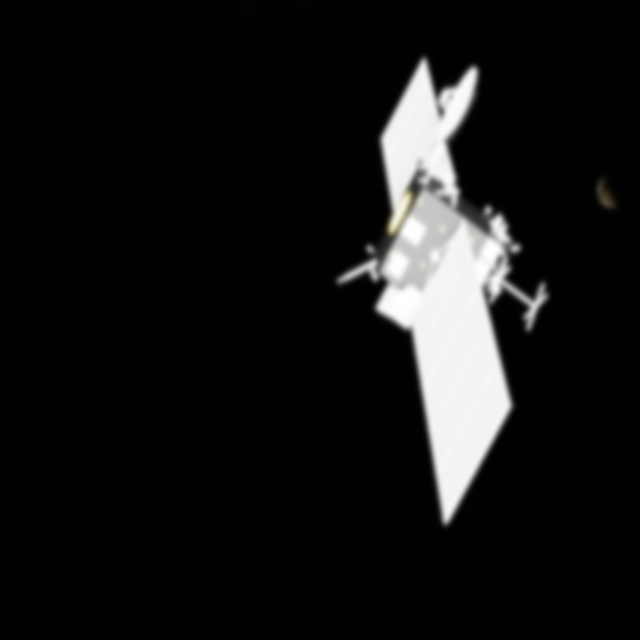satellite: (319, 58, 564, 545)
